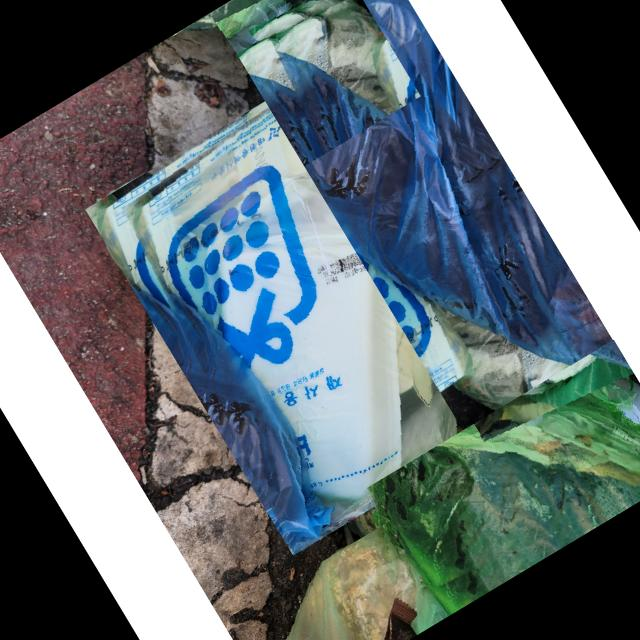general_trashbag: (127, 75, 454, 525), (368, 390, 640, 594), (288, 528, 448, 640), (271, 1, 392, 115), (177, 0, 314, 39)
other_trashbag: (247, 0, 632, 377)
